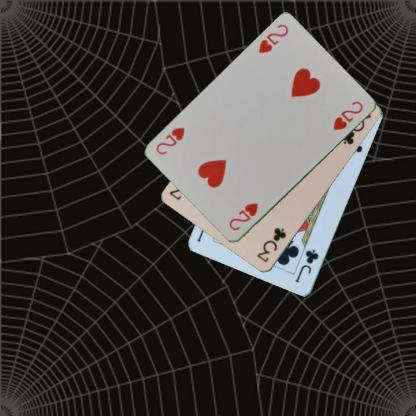2h: (255, 21, 290, 55), (226, 200, 260, 232)
3c: (254, 225, 288, 264)
Jc: (293, 247, 320, 284)
